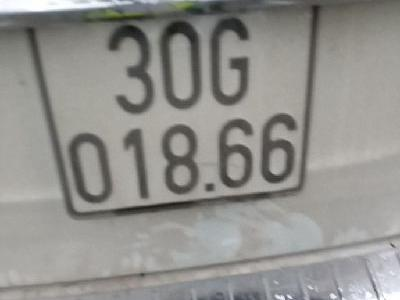number: (29, 1, 321, 219)
